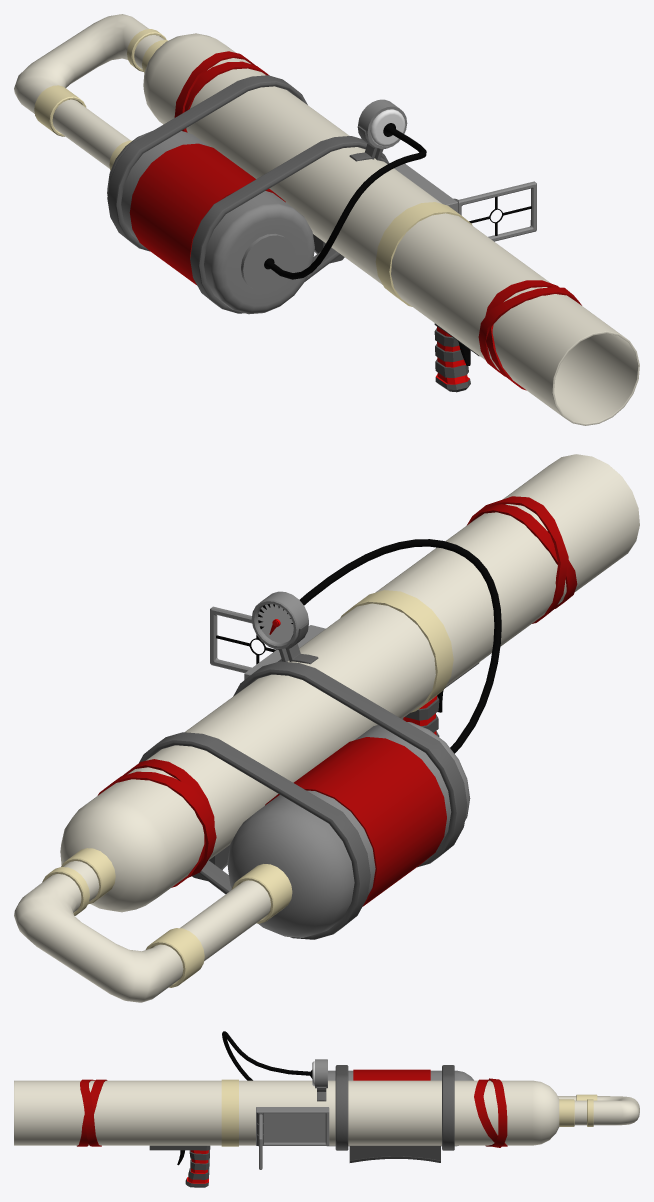
The model's file is uploads_files_1001175_Potato_Cannon 1.fbx.
The picture shows the model from 3 angles, top to bottom: view 1: azimuth 30°, elevation 25°; view 2: azimuth 150°, elevation 25°; view 3: azimuth 270°, elevation 25°; orthographic projection. The views are drawn at different scales.
Visible parts, largest first — view 1: Potato_Cannon; view 2: Potato_Cannon; view 3: Potato_Cannon.
Boxes of the visible parts, <box> form: Potato_Cannon: <box>14,14,639,425</box>; Potato_Cannon: <box>14,454,639,1002</box>; Potato_Cannon: <box>14,1031,639,1187</box>.
Bounding box in the file's own units: 36.28 × 26.83 × 110.
